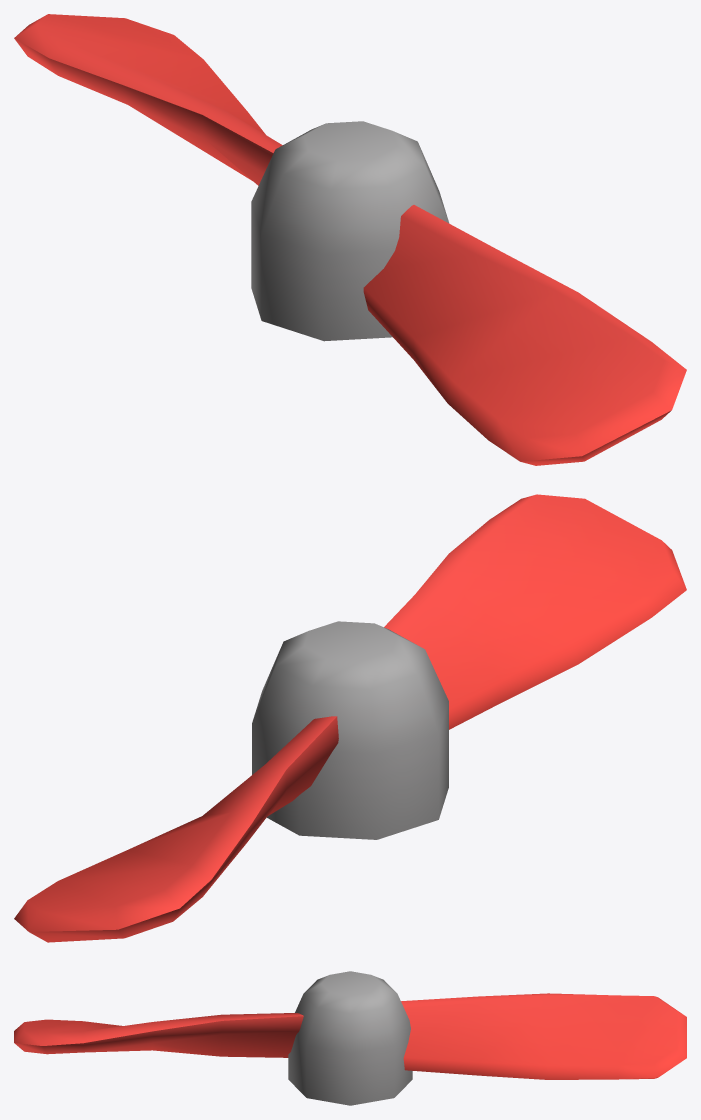
Rendered from Drone_013_propeller_002.fbx.
The picture shows the model from 3 angles, top to bottom: view 1: azimuth 30°, elevation 25°; view 2: azimuth 150°, elevation 25°; view 3: azimuth 270°, elevation 25°; orthographic projection. The views are drawn at different scales.
Parts seen in each view (by area): view 1: Drone_013_propeller_002; view 2: Drone_013_propeller_002; view 3: Drone_013_propeller_002.
Part boxes in pixels (x1=…): Drone_013_propeller_002: x1=14, y1=14, x2=686, y2=465; Drone_013_propeller_002: x1=14, y1=494, x2=686, y2=942; Drone_013_propeller_002: x1=14, y1=971, x2=686, y2=1105.
Size of the model in its own units: 5.53 by 29.9 by 4.7.
